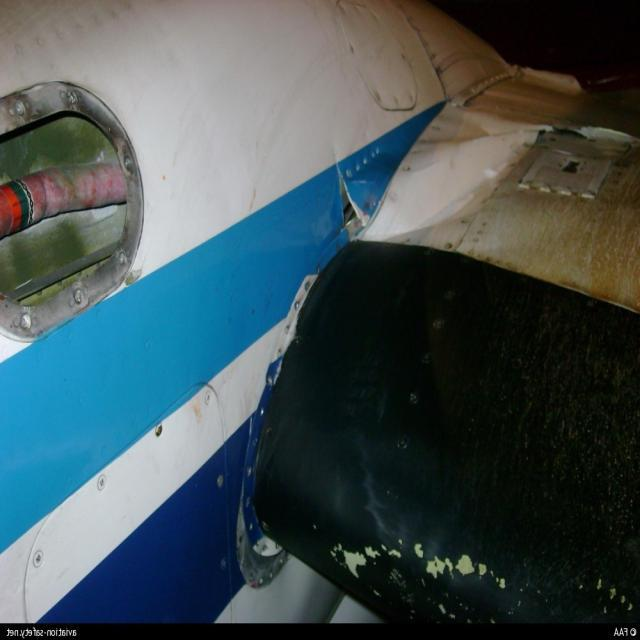crack: (336, 168, 374, 240)
